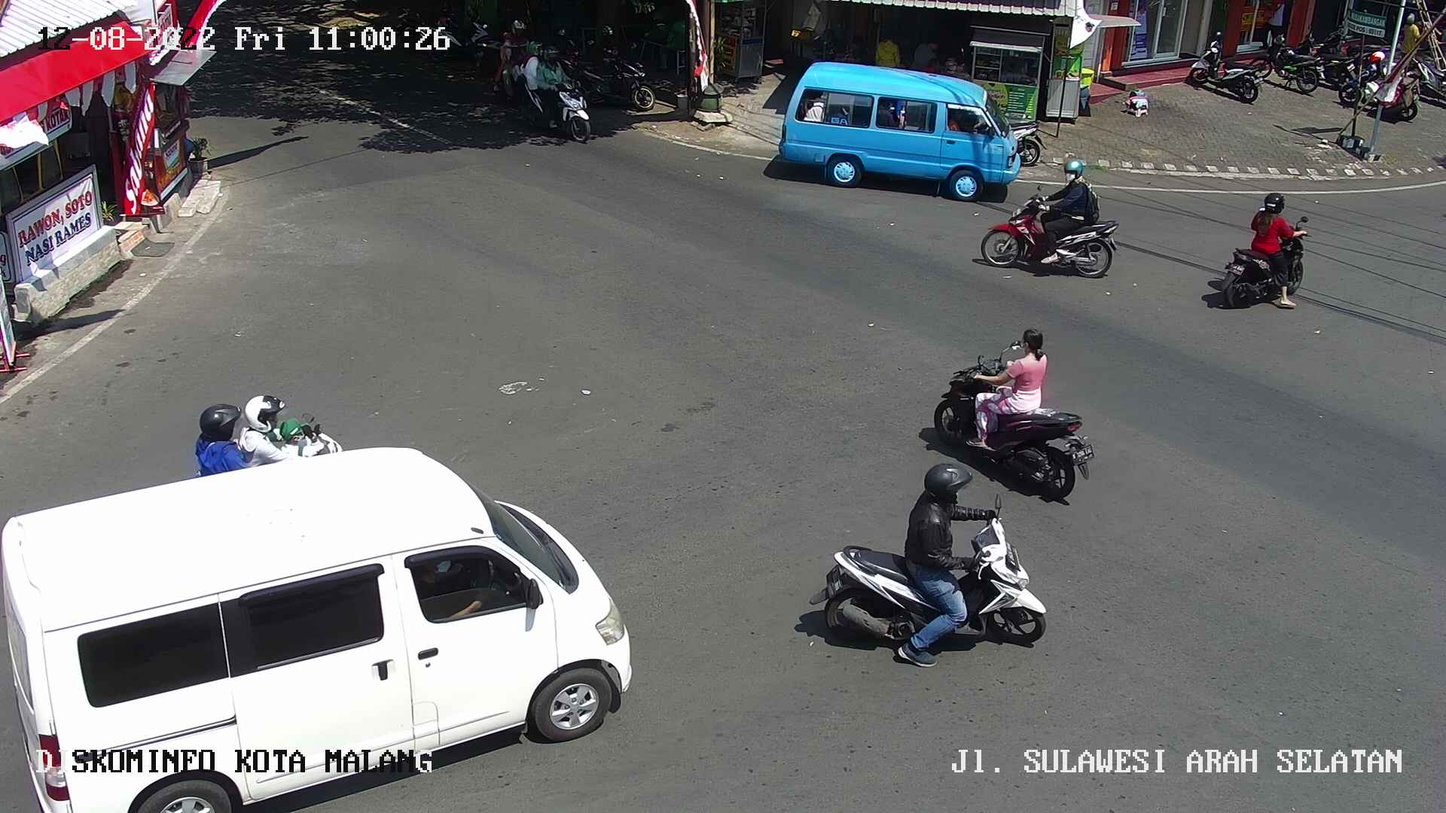with_helmet: (800, 458, 1054, 679), (977, 145, 1124, 287), (185, 389, 351, 501), (1200, 188, 1325, 315)
without_helmet: (926, 319, 1104, 505)
